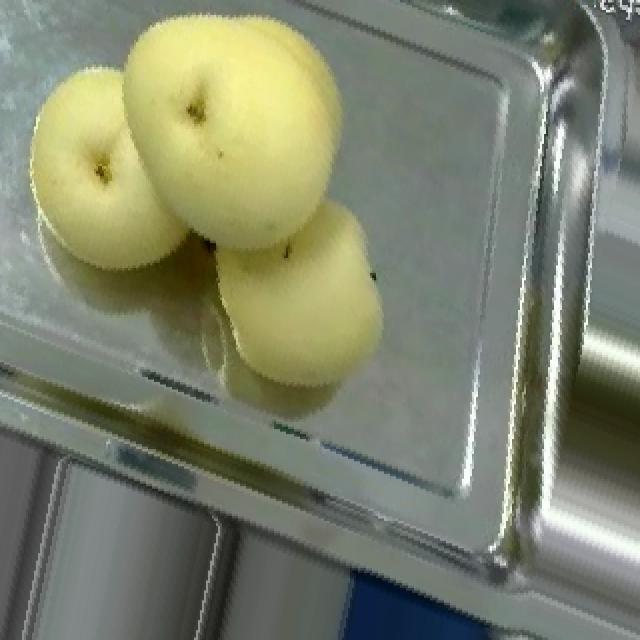Fruit: (0, 0, 326, 305), (180, 171, 414, 417)
